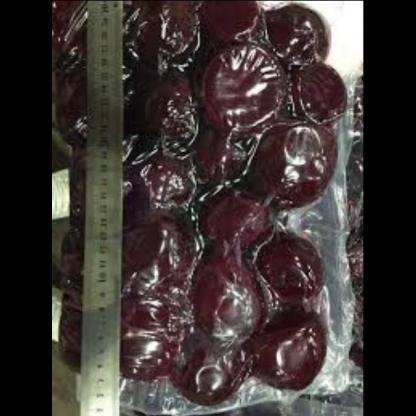beet: (118, 1, 346, 396)
